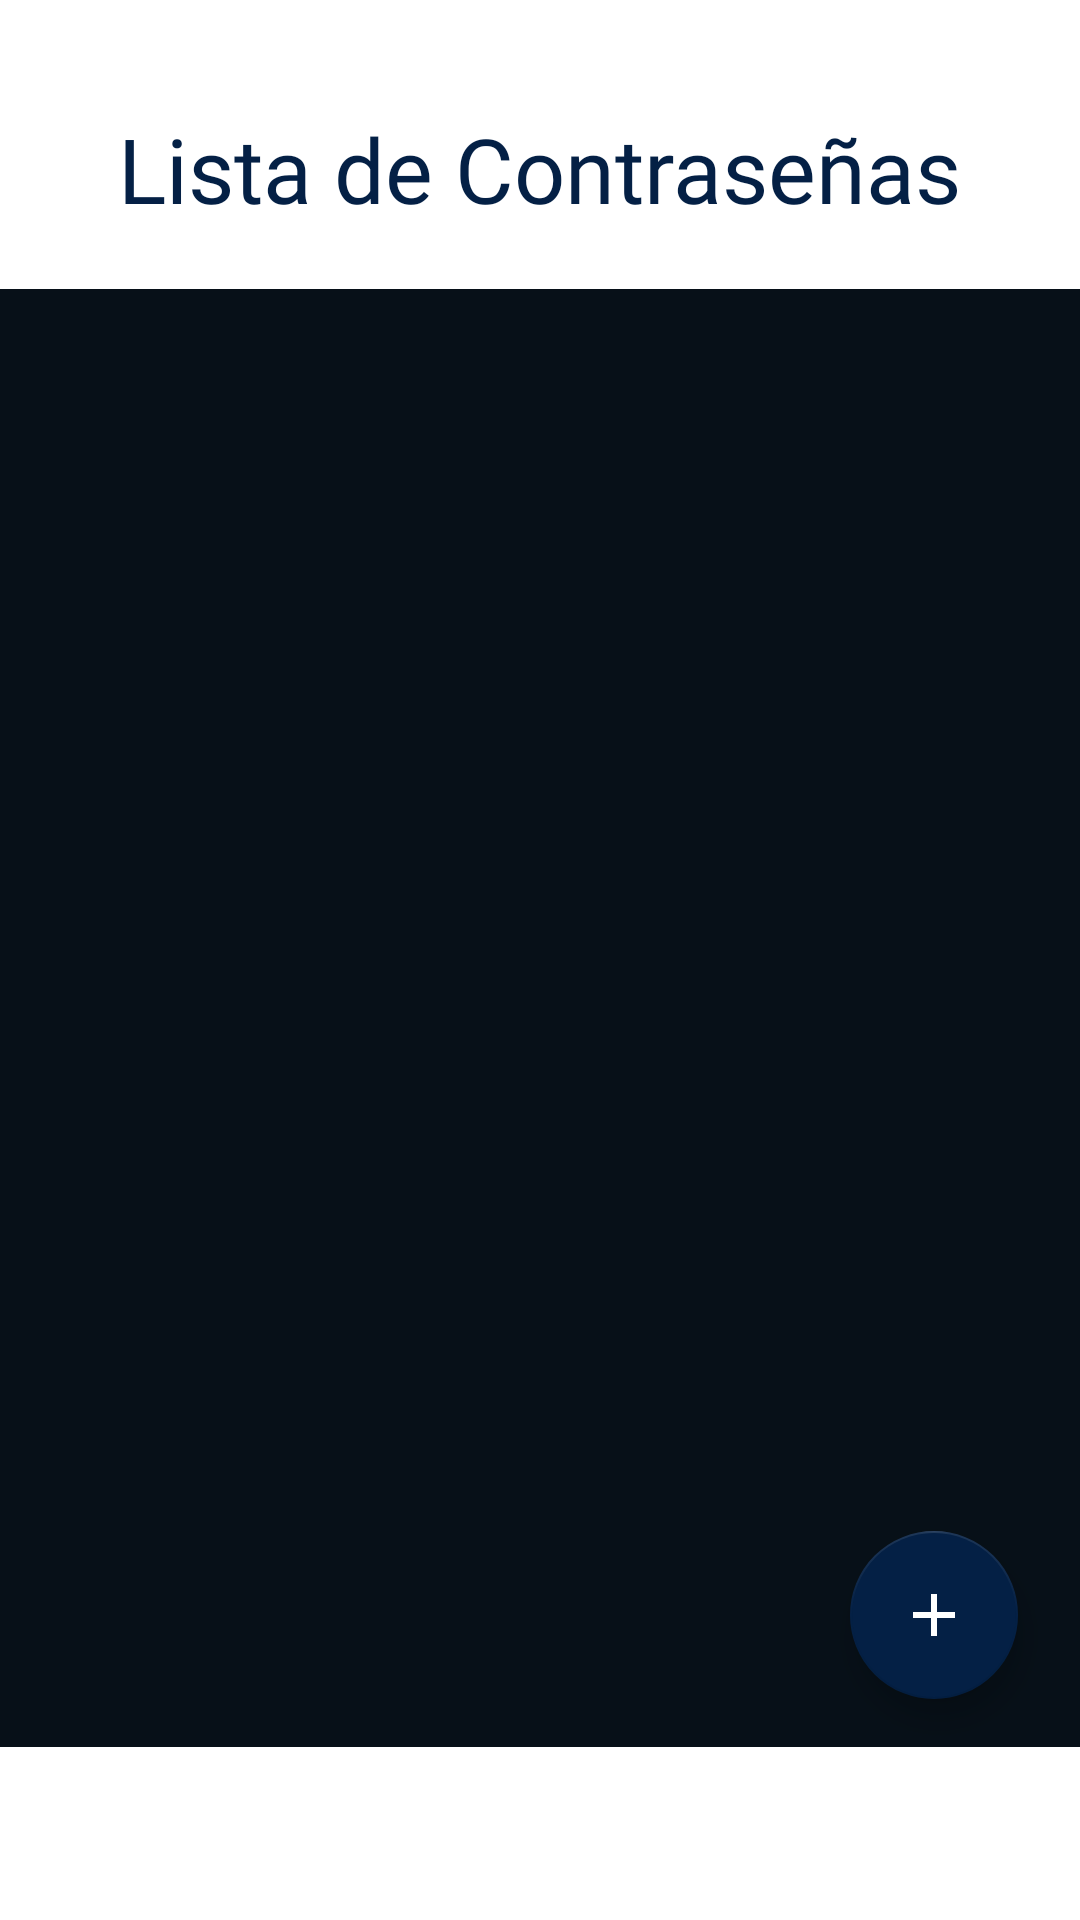

Where icons sit on this 1080px x 1920px app screen, as Rect(x1, y1, x2, y2):
add: Rect(850, 1531, 1018, 1699)
